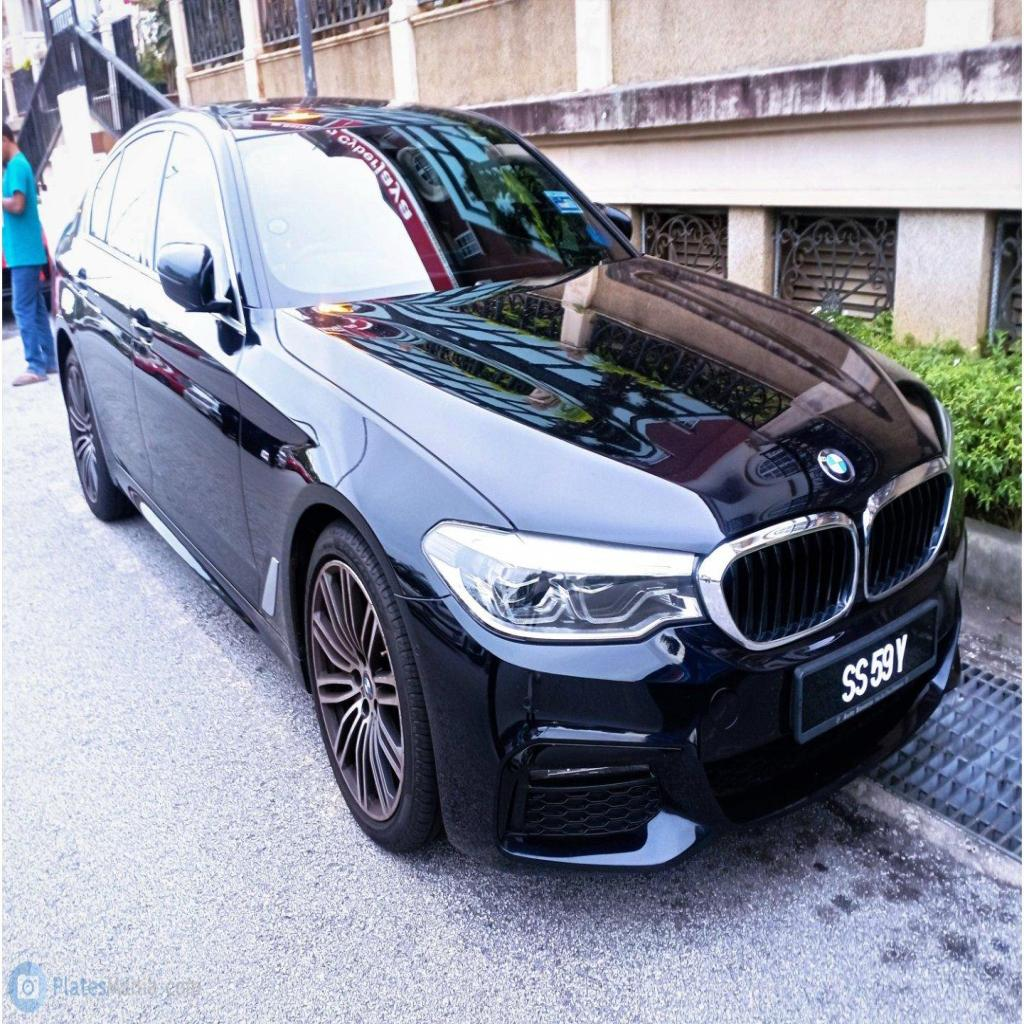car: (57, 99, 964, 867)
car plate: (794, 603, 936, 741)
